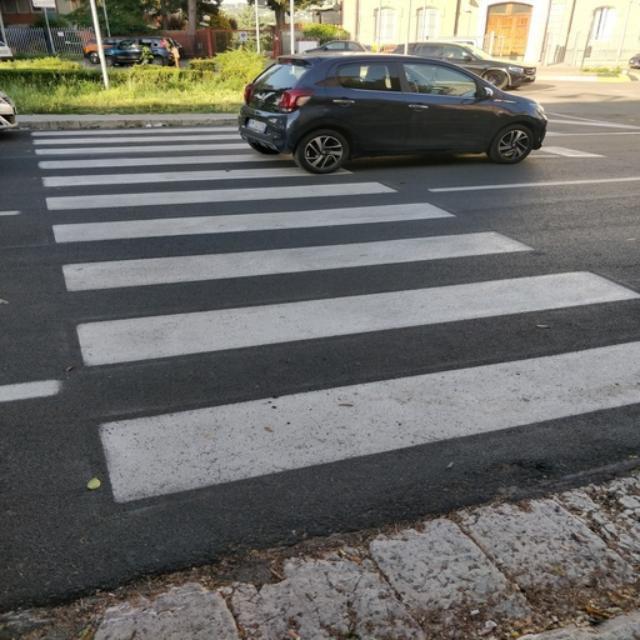sidewalk: (29, 119, 640, 585)
